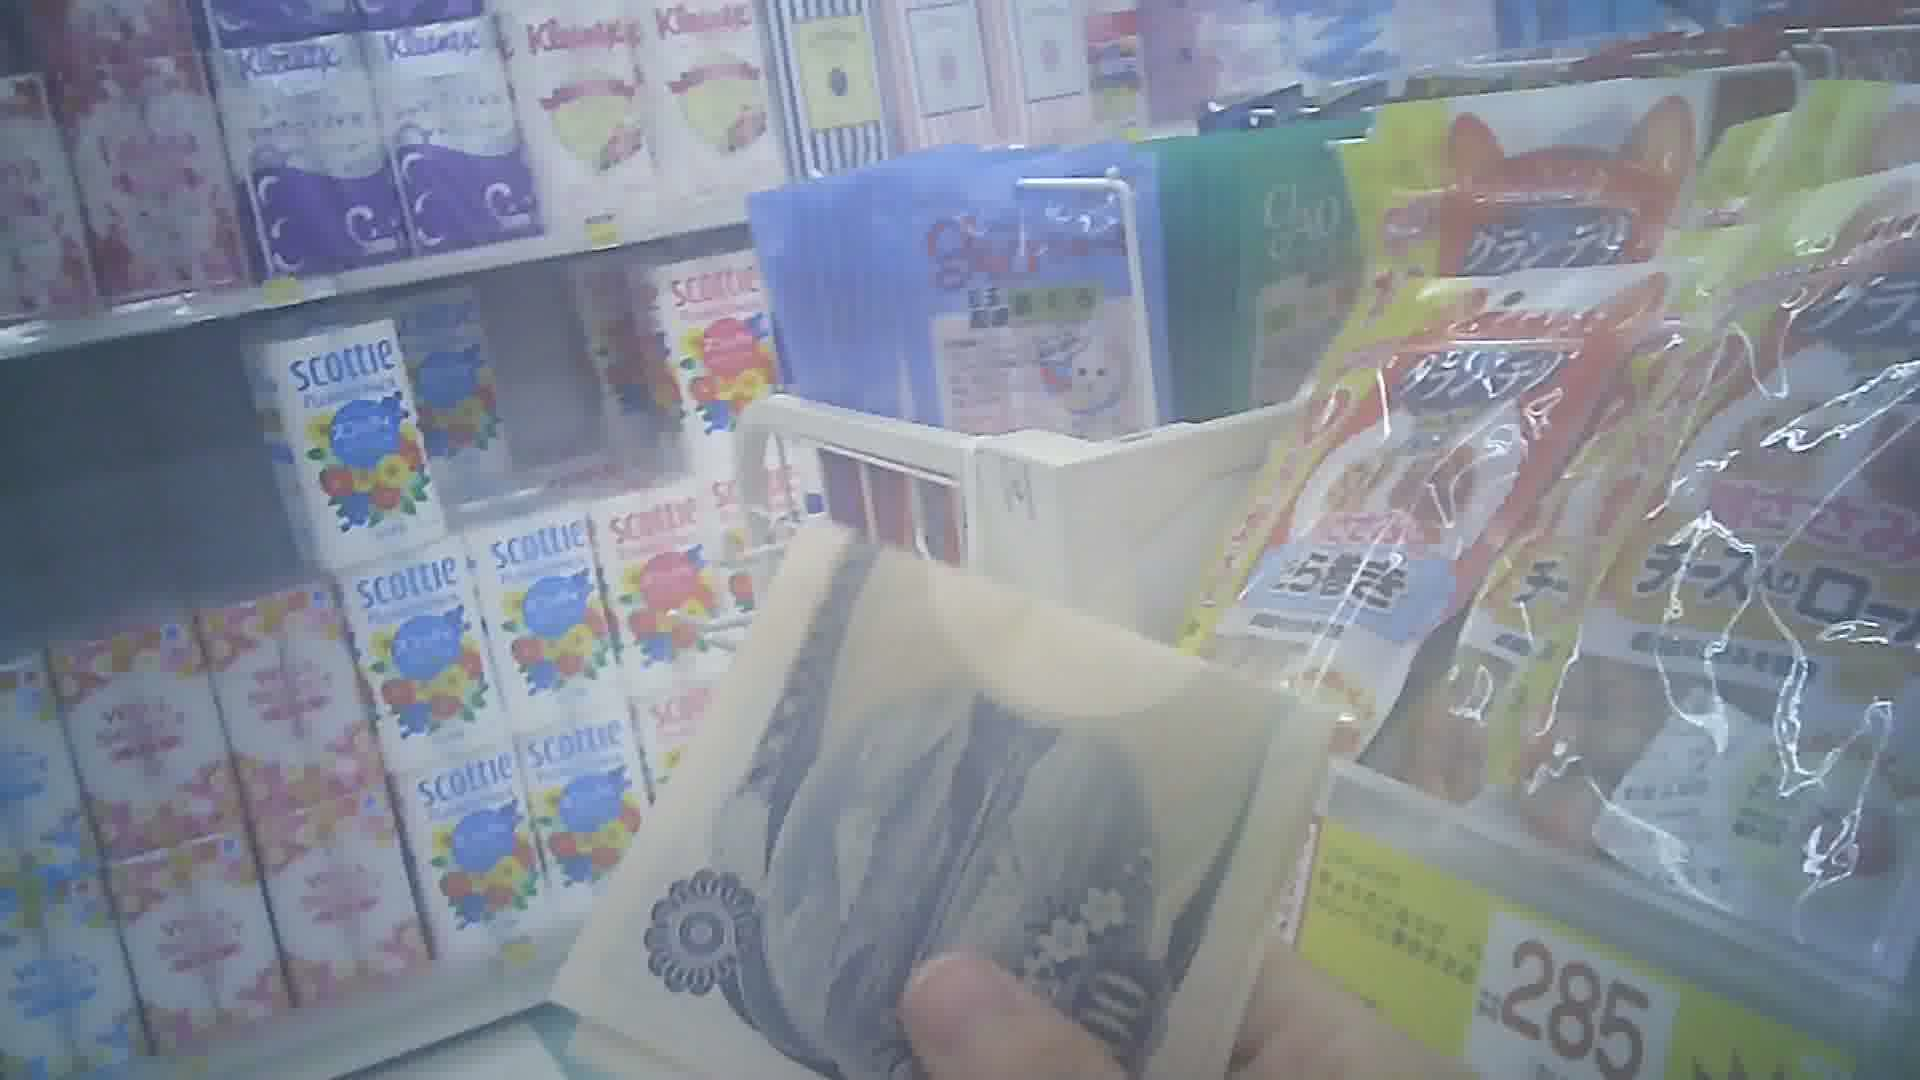1,000 Yen: (583, 506, 1288, 1079)
